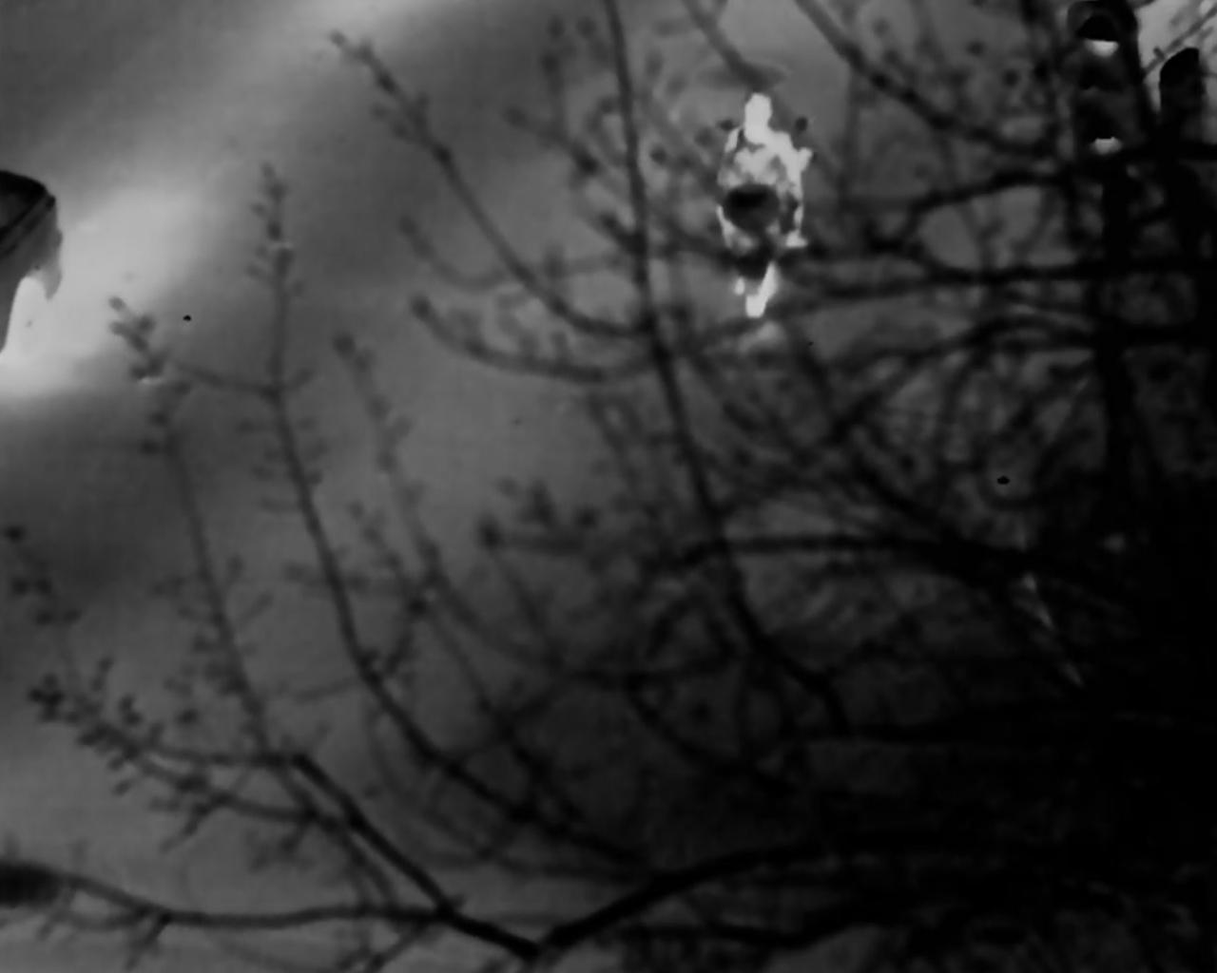person: (712, 85, 822, 290)
